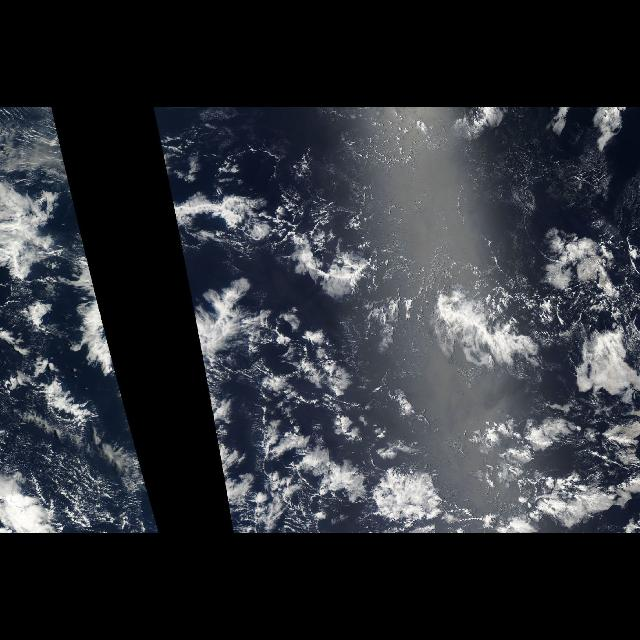Flower: (186, 277, 460, 523)
